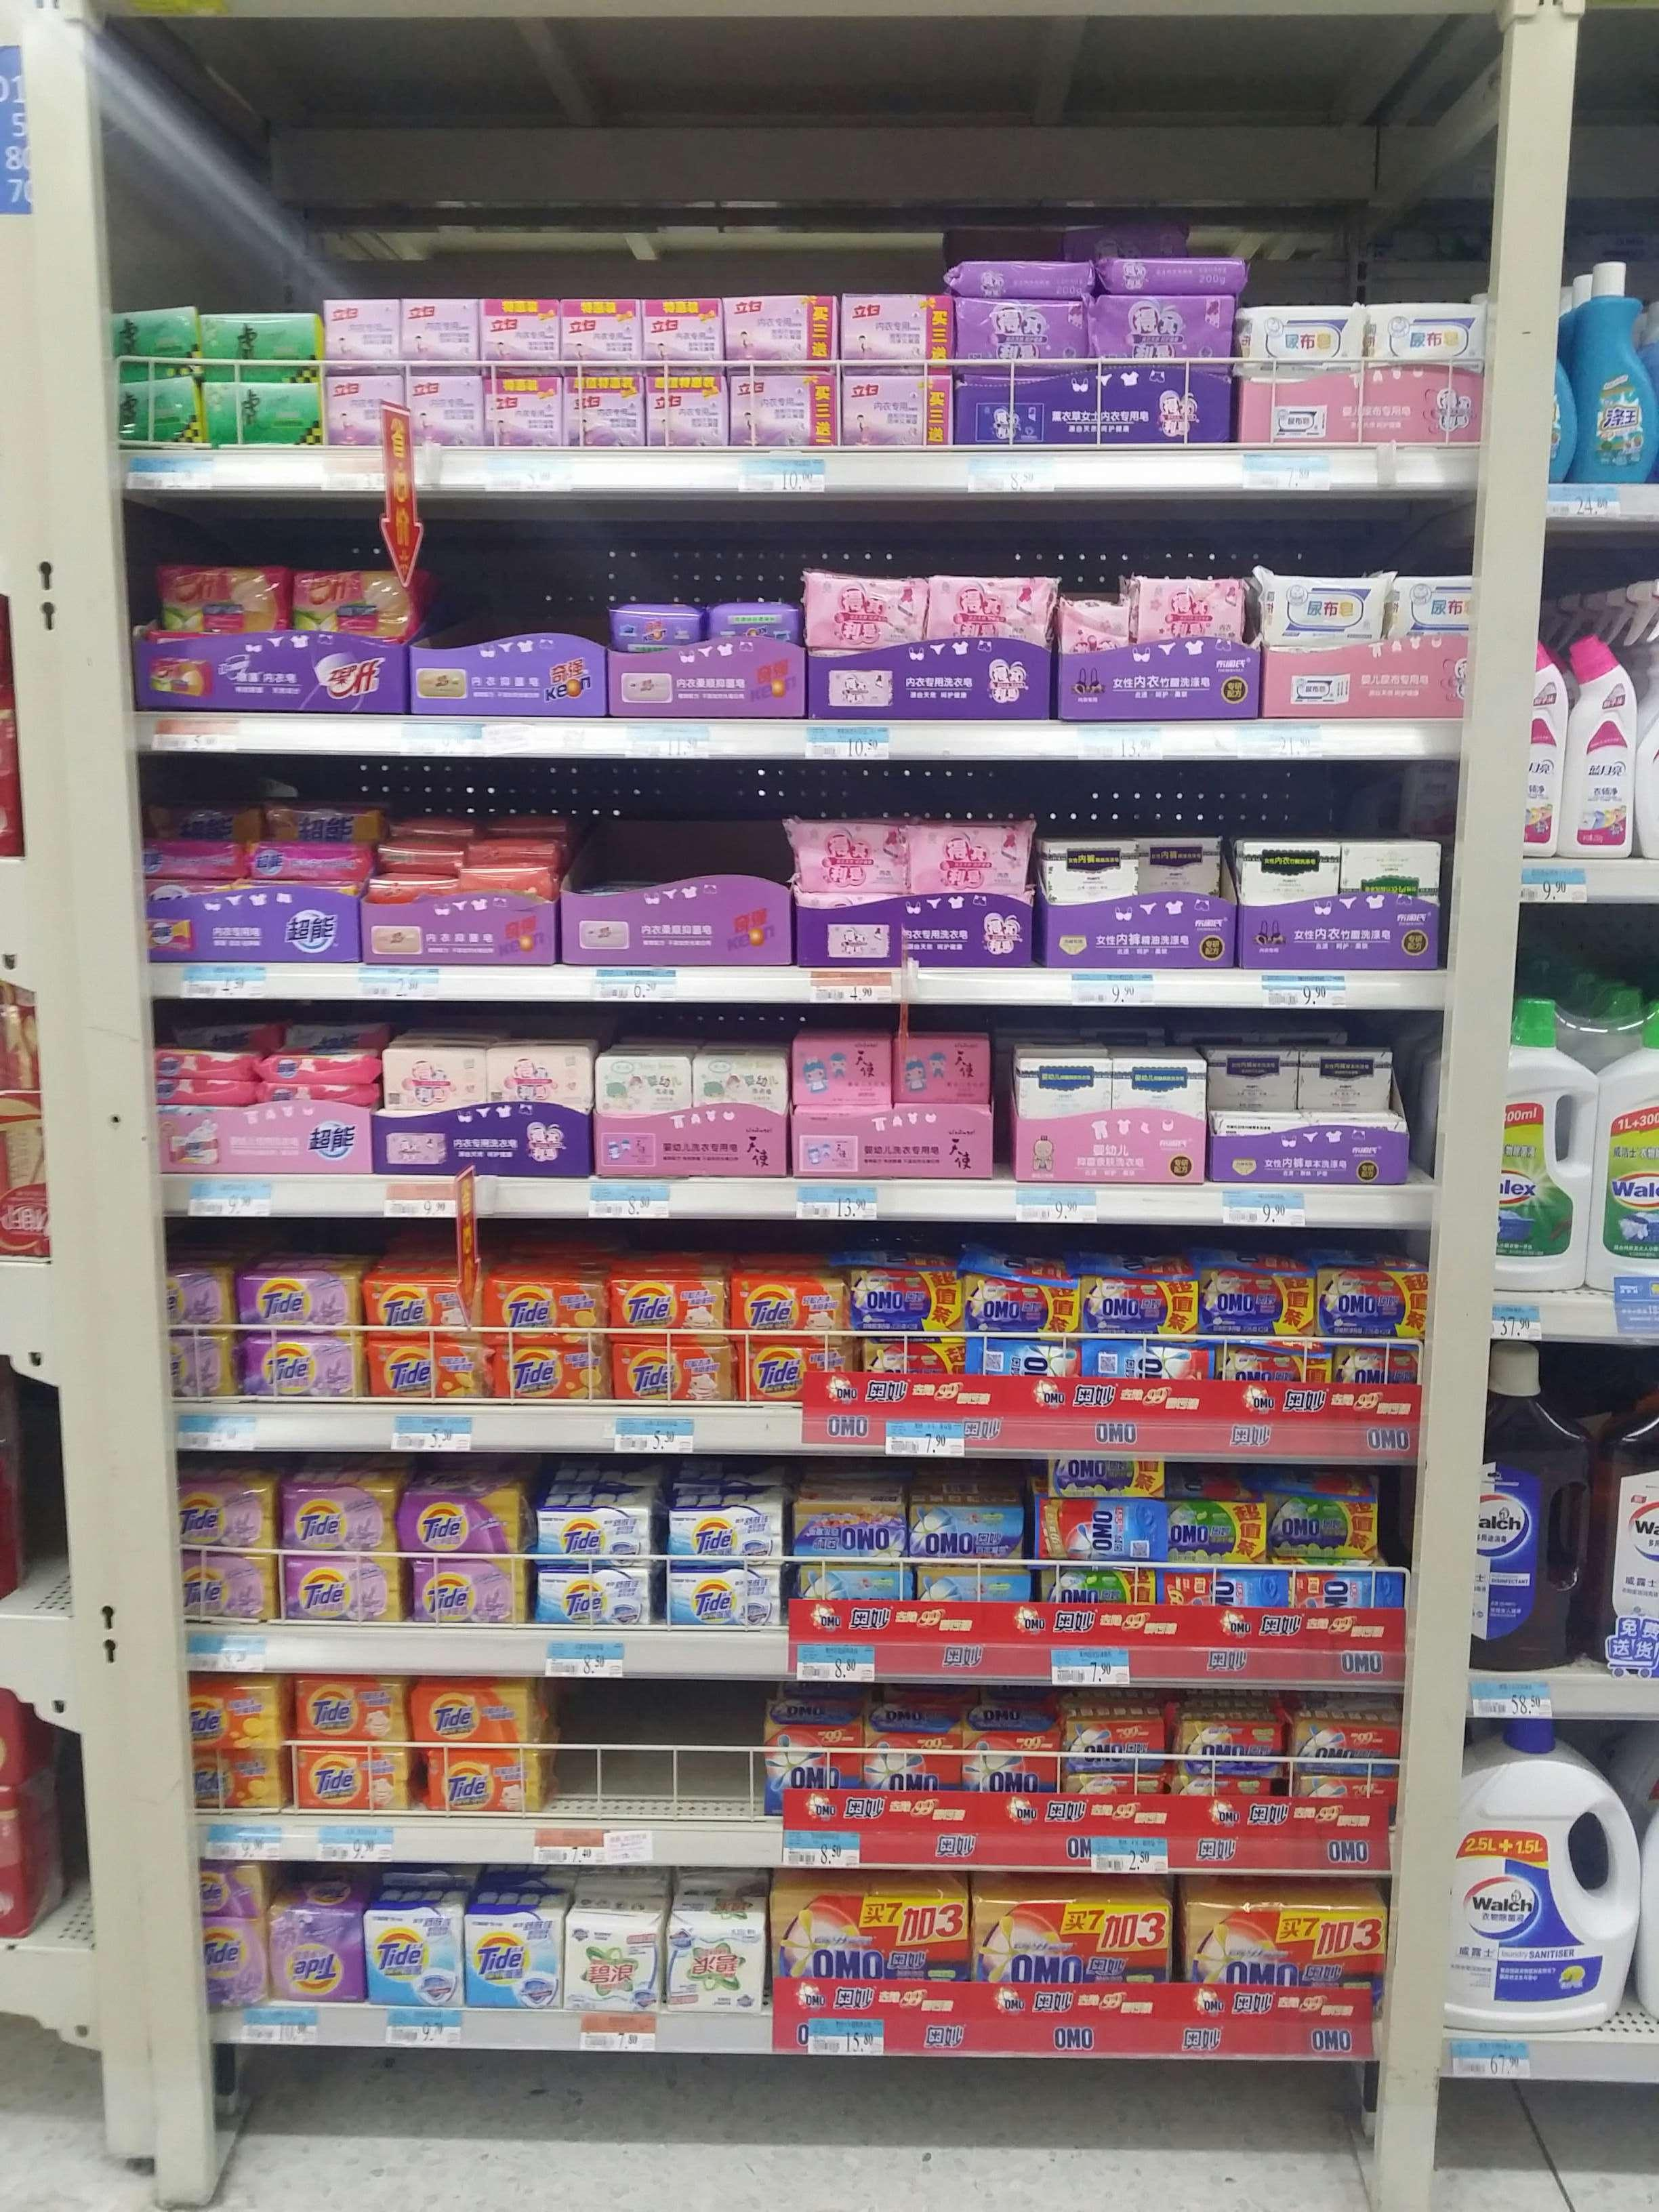empty: (552, 1684, 753, 1808)
